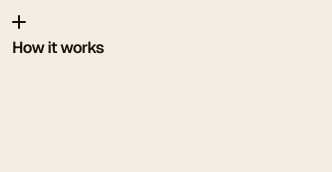
Scenario: motion kit › an expand card opens and closes with its plus
Expected: the text "The detail." is not shown
Click the button named "Open How it works" at (19, 22), box [12,15,26,29]
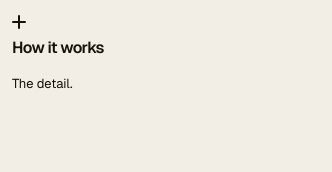
Expected: the text "The detail." is shown, [12,75,73,92]
